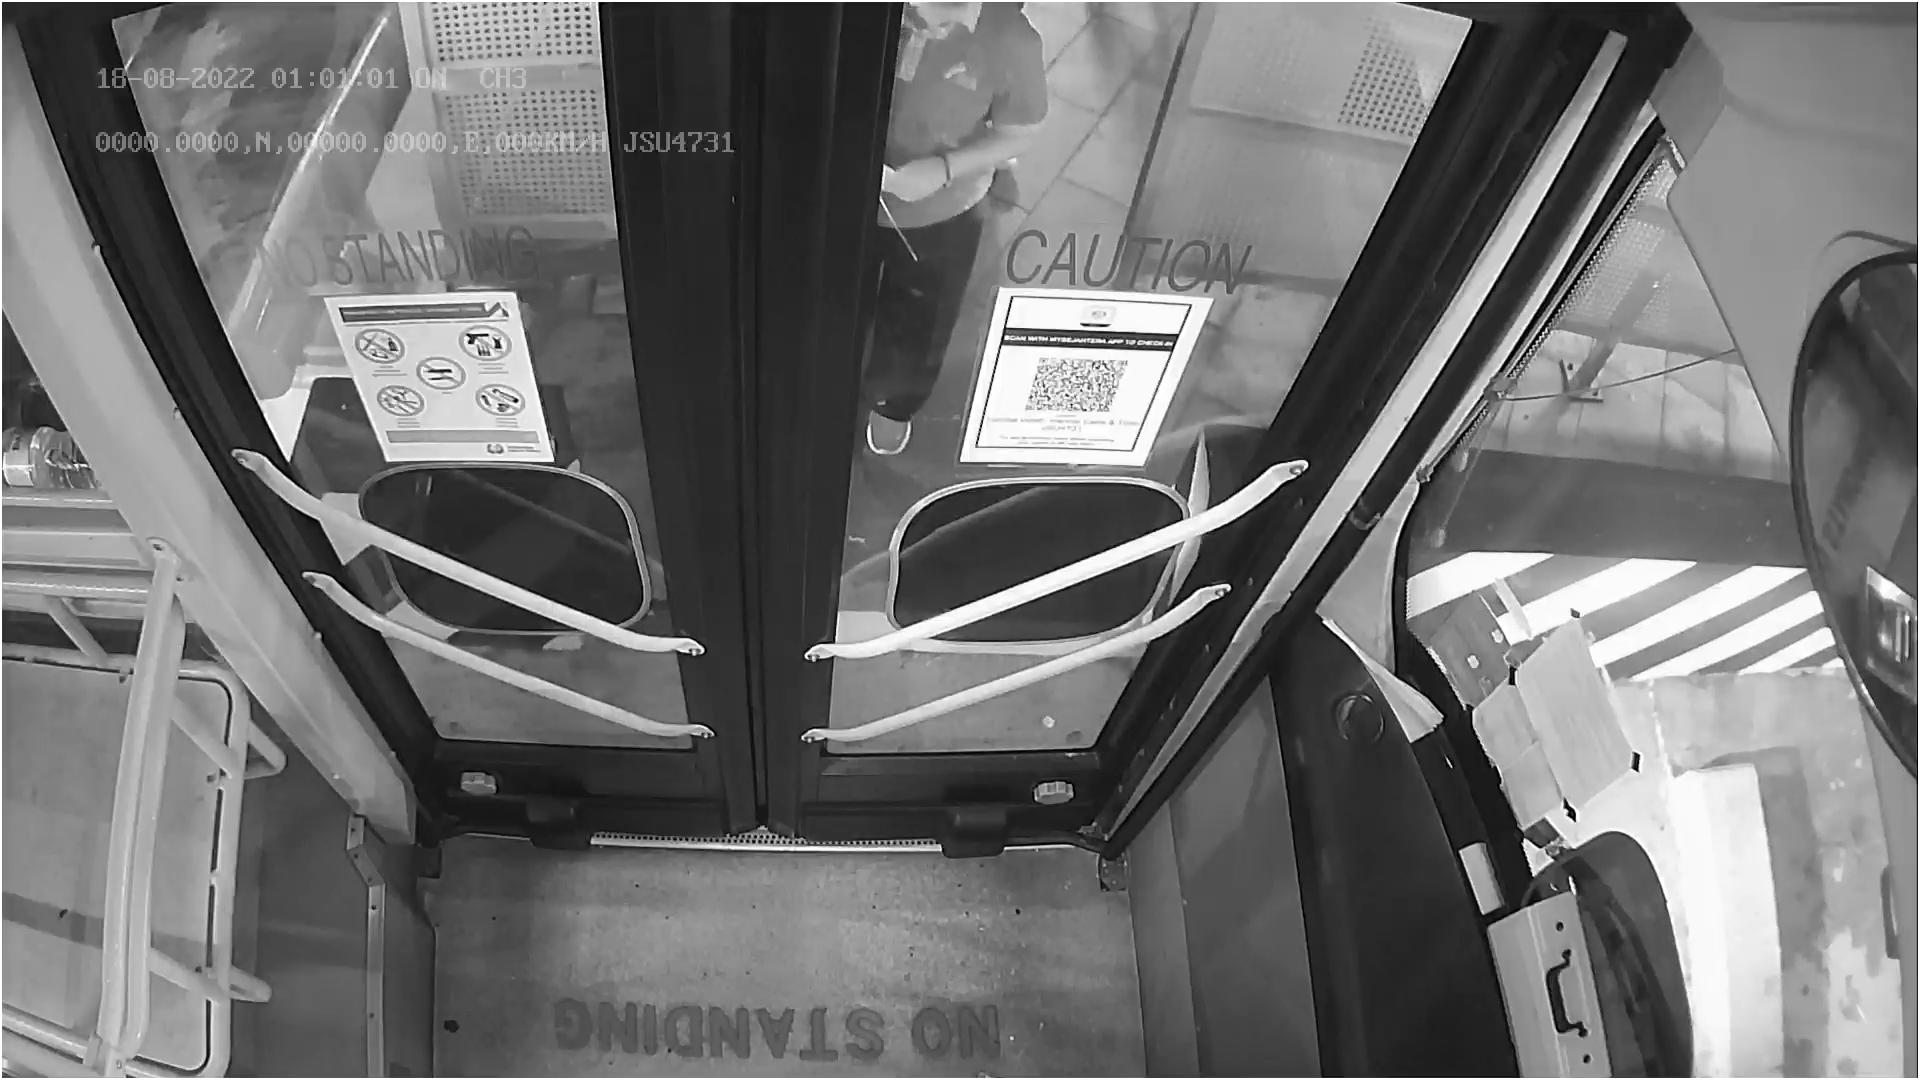close: (131, 0, 1451, 162)
